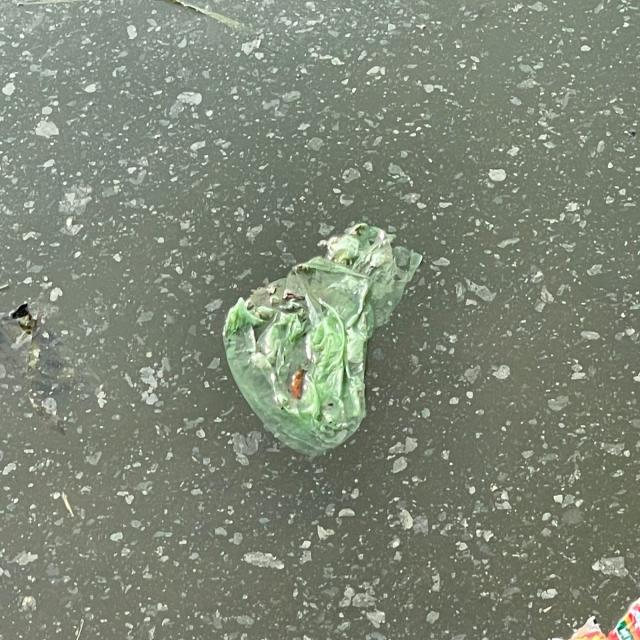Kantong Plastik: (218, 224, 427, 461)
